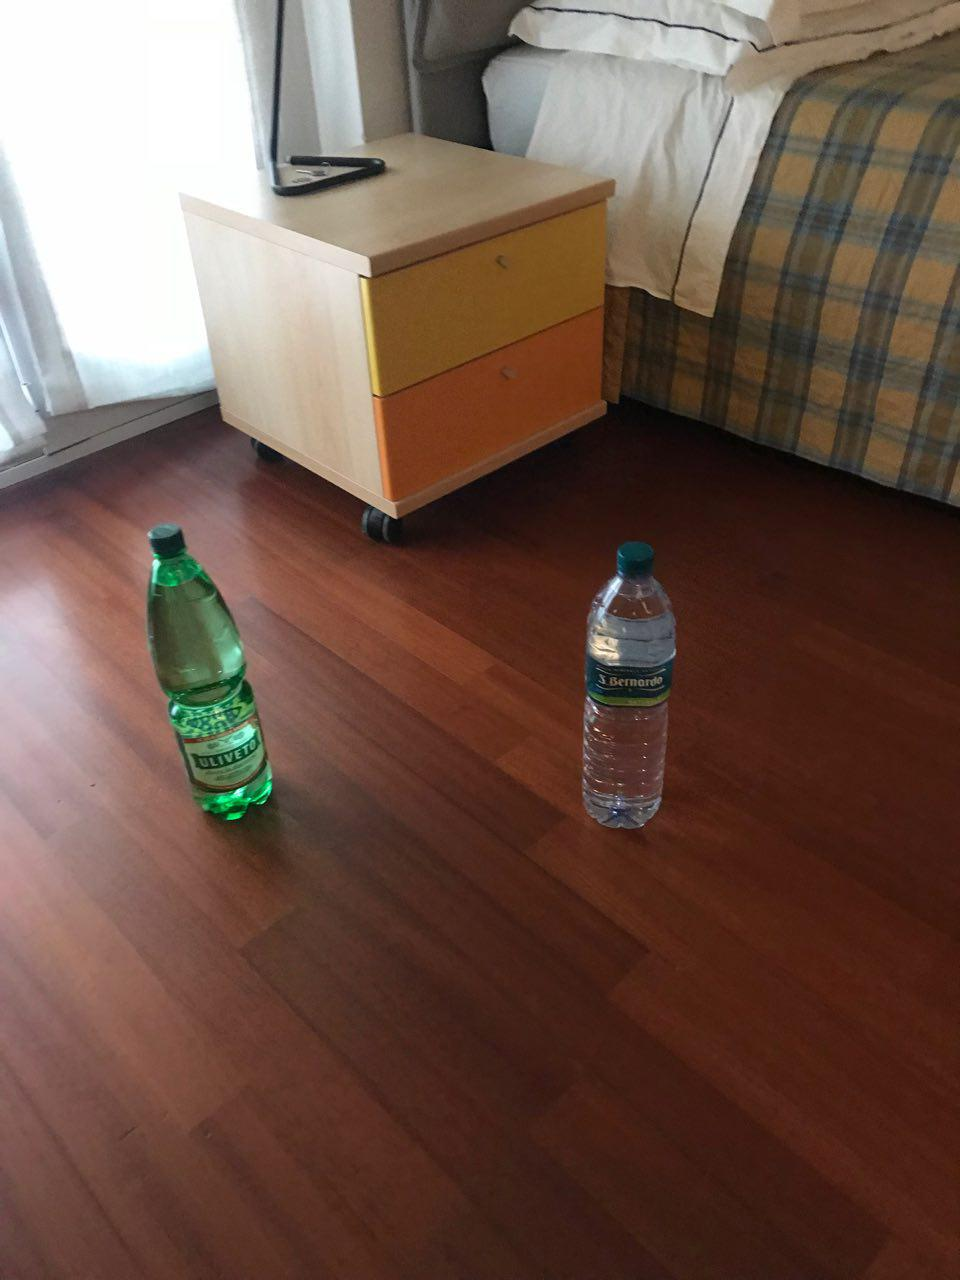san_bernardo: (581, 541, 677, 830)
